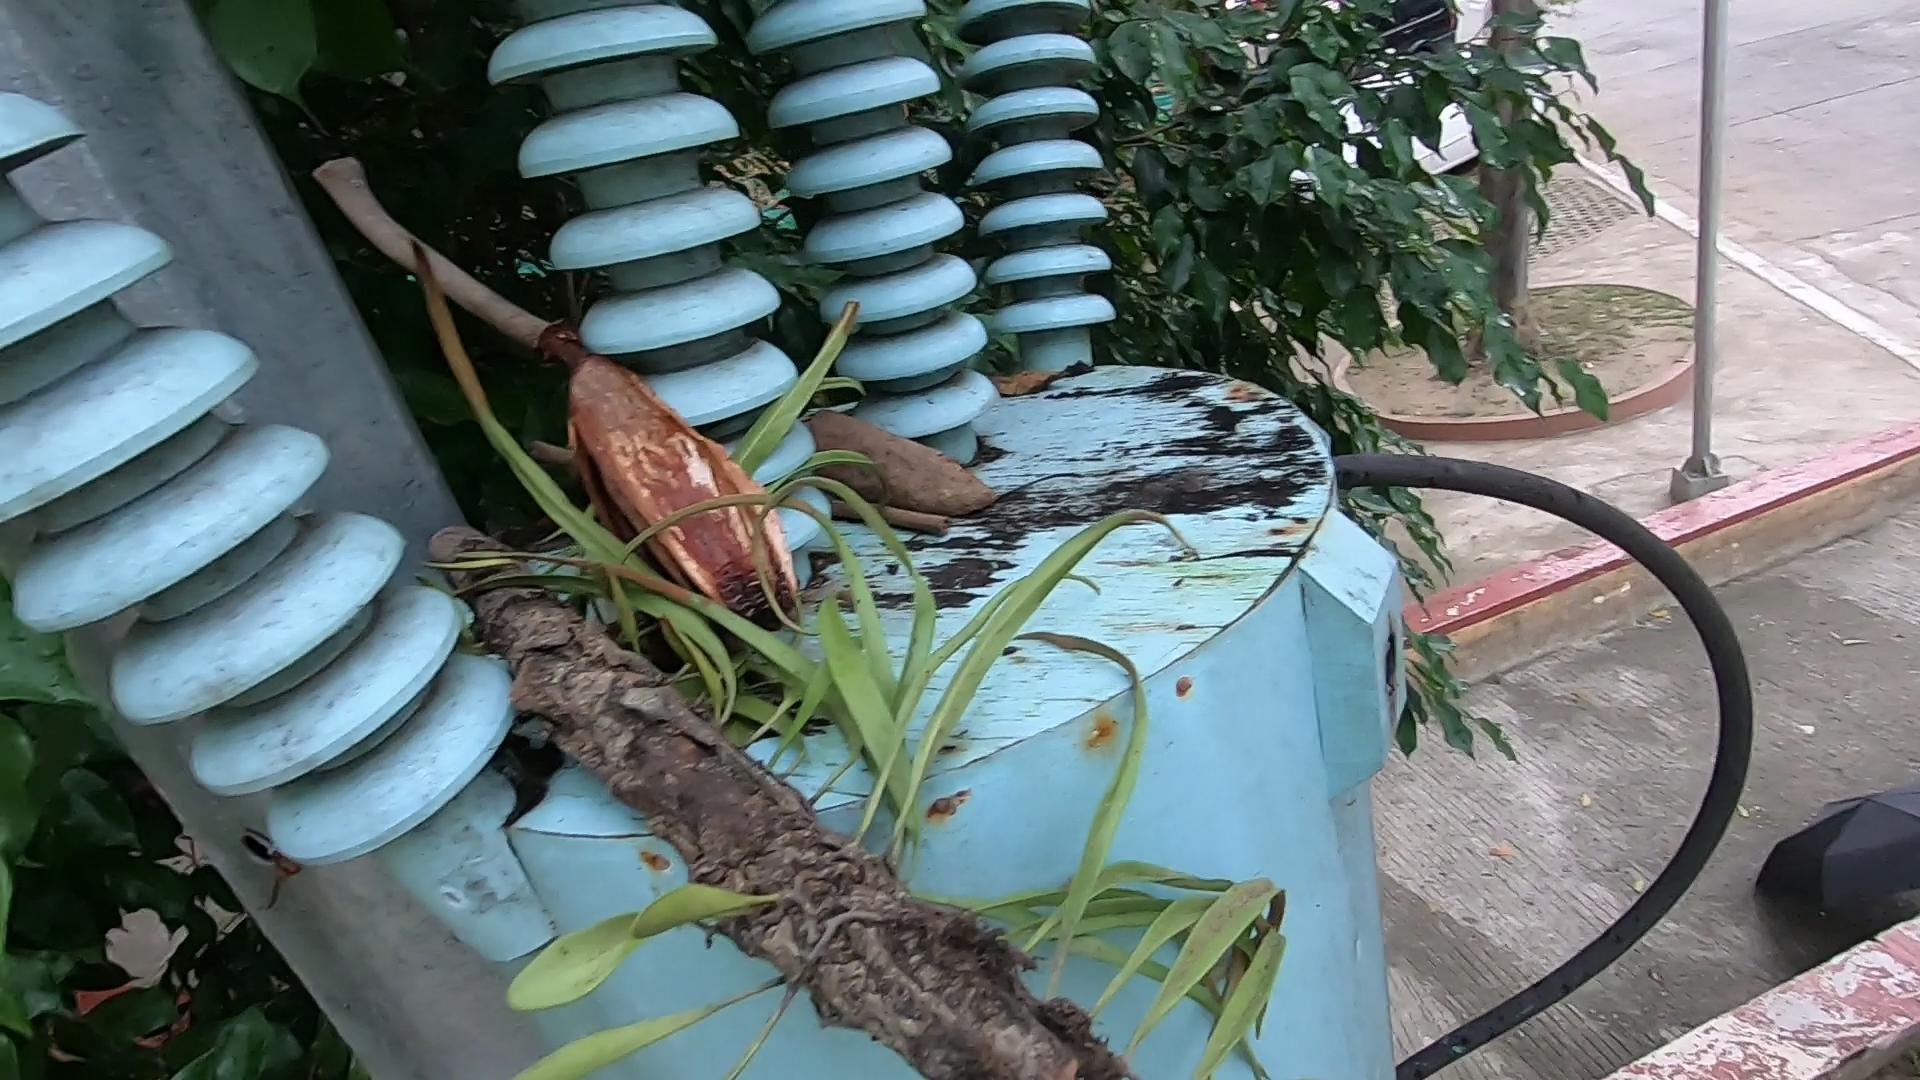branch with leaves: (436, 530, 1085, 1080)
leaf: (985, 357, 1098, 398)
mahogany fruit: (787, 398, 1015, 556)
tree branch: (505, 345, 845, 607), (291, 171, 560, 364), (829, 491, 948, 535)
